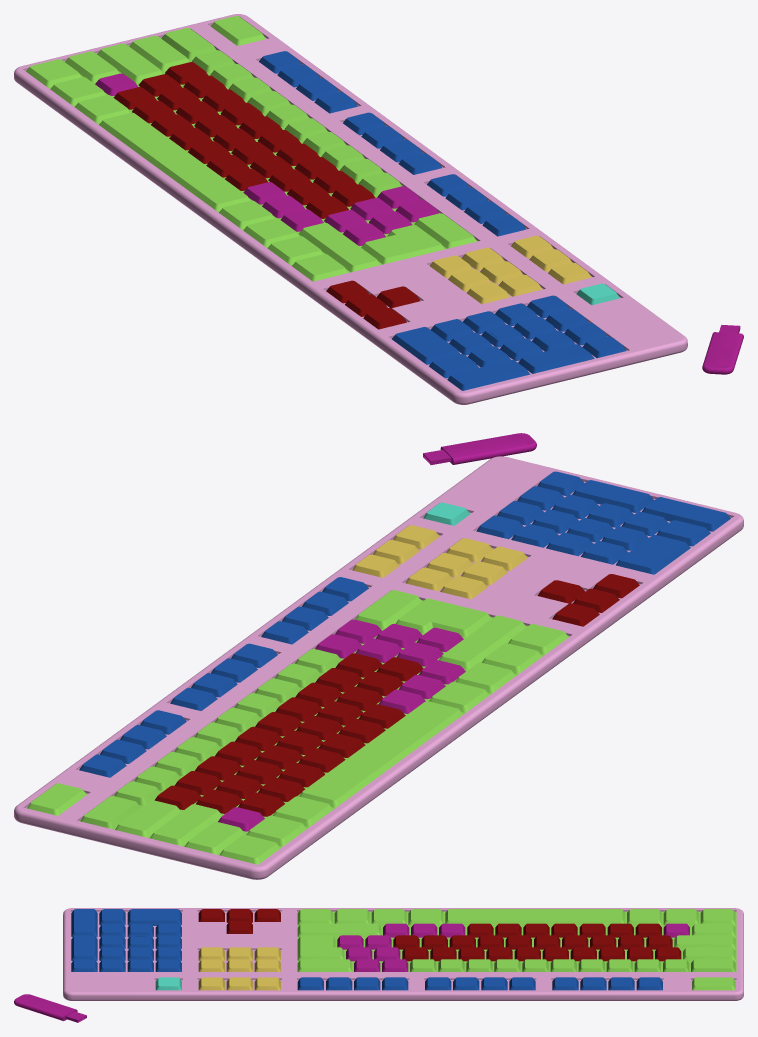
Rendered from Keyboard.obj.
The picture shows the model from 3 angles, top to bottom: view 1: azimuth 30°, elevation 25°; view 2: azimuth 150°, elevation 25°; view 3: azimuth 270°, elevation 25°; orthographic projection. The views are drawn at different scales.
Parts seen in each view (by area): view 1: Teclado_001, object 10, QWERTY_001, object 9, Group_004, Teclas_F_001, object 5, object 3, Component_17_001, Cursor_001, Component_20_001, Group_001; view 2: Teclado_001, object 10, QWERTY_001, object 9, Group_004, Teclas_F_001, object 5, object 3, Component_17_001, Cursor_001, Component_20_001, Group_001; view 3: Teclado_001, object 10, QWERTY_001, Group_004, object 9, Teclas_F_001, object 5, object 3, Component_17_001, Group_001, Cursor_001, Component_20_001 (+1 smaller).
Part boxes in pixels (x1,y1,x2,y2): Teclado_001: (18,14,683,392); object 10: (26,16,476,281); QWERTY_001: (113,62,375,218); object 9: (392,295,626,390); Group_004: (14,14,687,404); Teclas_F_001: (259,51,526,236); object 5: (161,28,401,195); object 3: (95,73,438,245); Component_17_001: (430,235,591,304); Cursor_001: (326,280,420,329); Component_20_001: (702,325,743,374); Group_001: (25,37,477,272); Teclado_001: (19,457,738,866); object 10: (27,590,568,864); QWERTY_001: (154,653,423,816); object 9: (476,471,730,574); Group_004: (14,456,743,879); Teclas_F_001: (79,577,368,777); object 5: (80,649,341,829); object 3: (218,619,465,831); Component_17_001: (352,525,527,599); Cursor_001: (537,574,639,626); Component_20_001: (423,433,536,464); Group_001: (79,600,569,854); Teclado_001: (66,908,740,991); object 10: (297,909,735,990); QWERTY_001: (393,923,681,961); Group_004: (63,908,743,1000); object 9: (71,909,181,971); Teclas_F_001: (297,977,662,990); object 5: (410,959,735,971); object 3: (337,923,689,971); Component_17_001: (198,947,280,990); Group_001: (297,911,736,971); Cursor_001: (198,909,280,933); Component_20_001: (14,994,86,1022).
Bounding box in the file's own units: 2902 × 154 × 8320.
